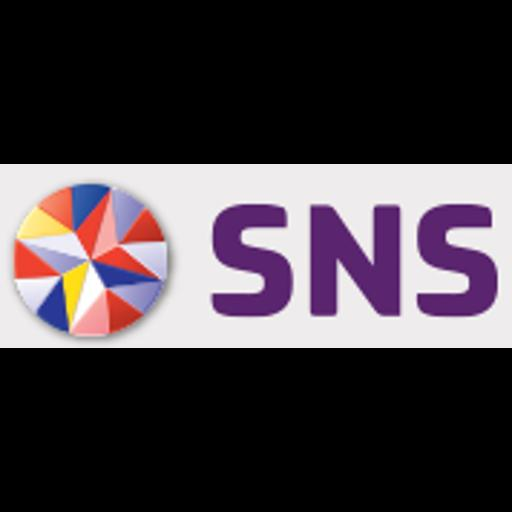SNS Bank N-V: (0, 164, 512, 348)
